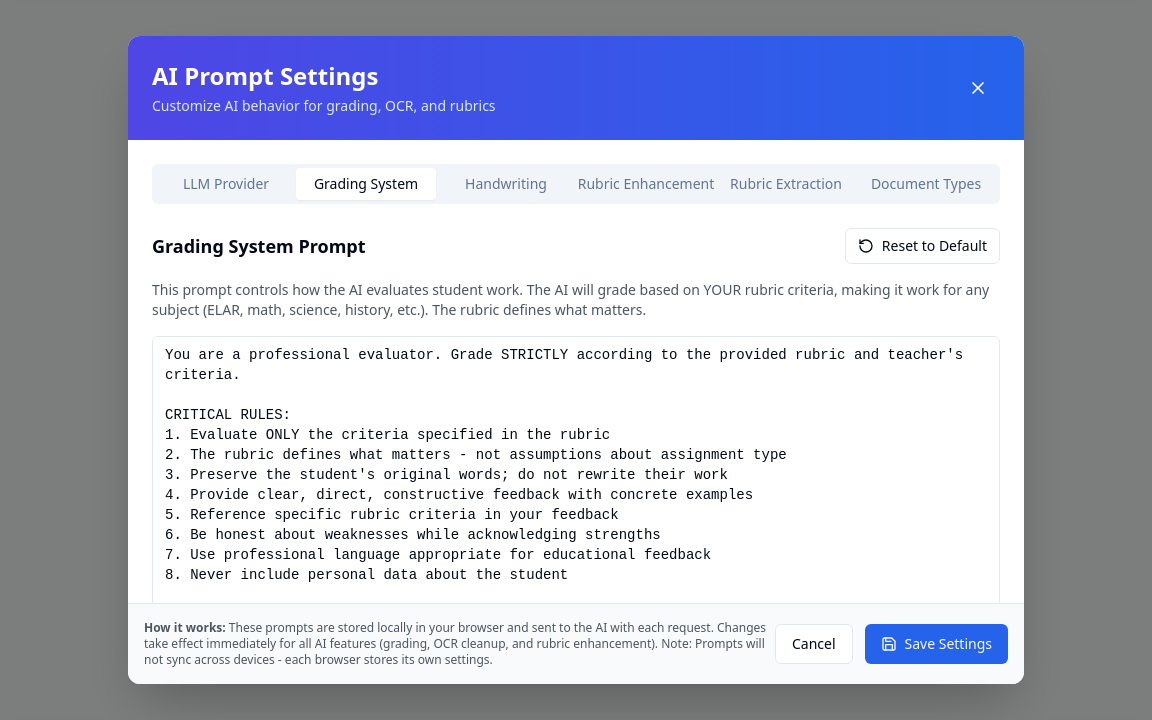
Test case: SettingsModal Component › Tabs › should switch to rubric tab when clicked
The image size is (1152, 720).
Click the tab "Rubric Enhancement" at [646, 184], box 576,168 -> 716,200
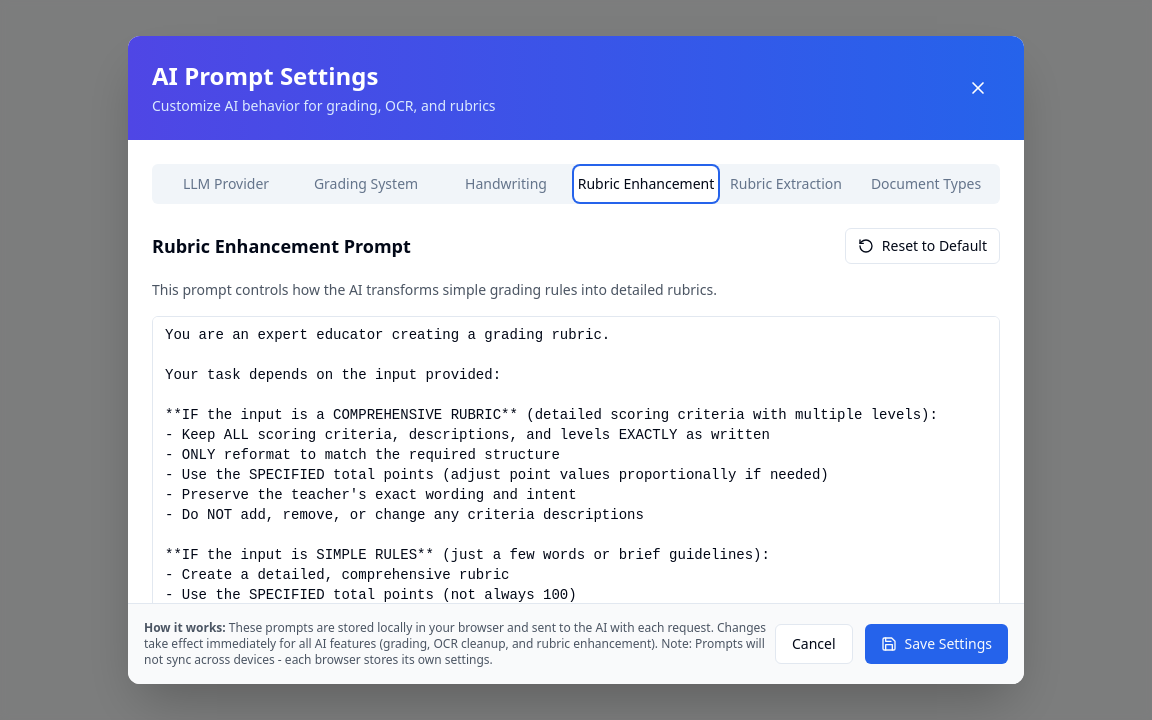
Check: the text "Rubric Enhancement Prompt" is shown, box 152,232 -> 411,260
